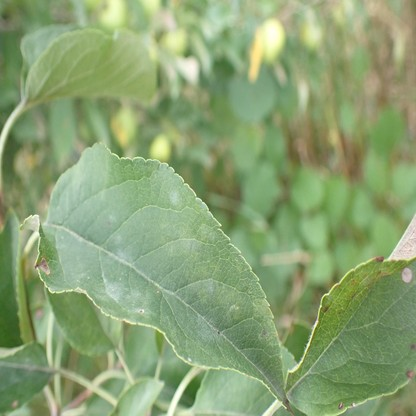frogeye_leaf_spot: (37, 257, 51, 277), (402, 268, 411, 281)
powdery_mildew: (92, 274, 152, 317), (167, 227, 194, 257), (189, 314, 219, 341), (116, 246, 132, 263), (69, 269, 86, 283), (169, 192, 178, 204), (107, 213, 116, 223), (209, 279, 214, 295), (114, 235, 121, 242), (54, 244, 66, 248)
